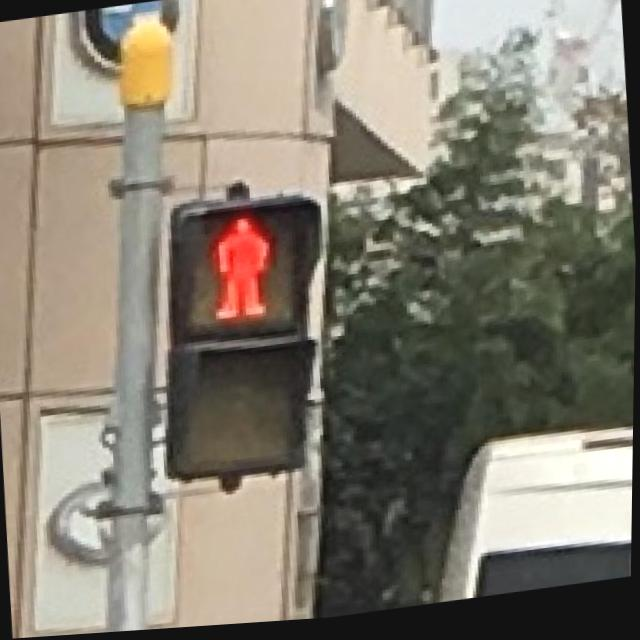red_light: (192, 205, 308, 331)
